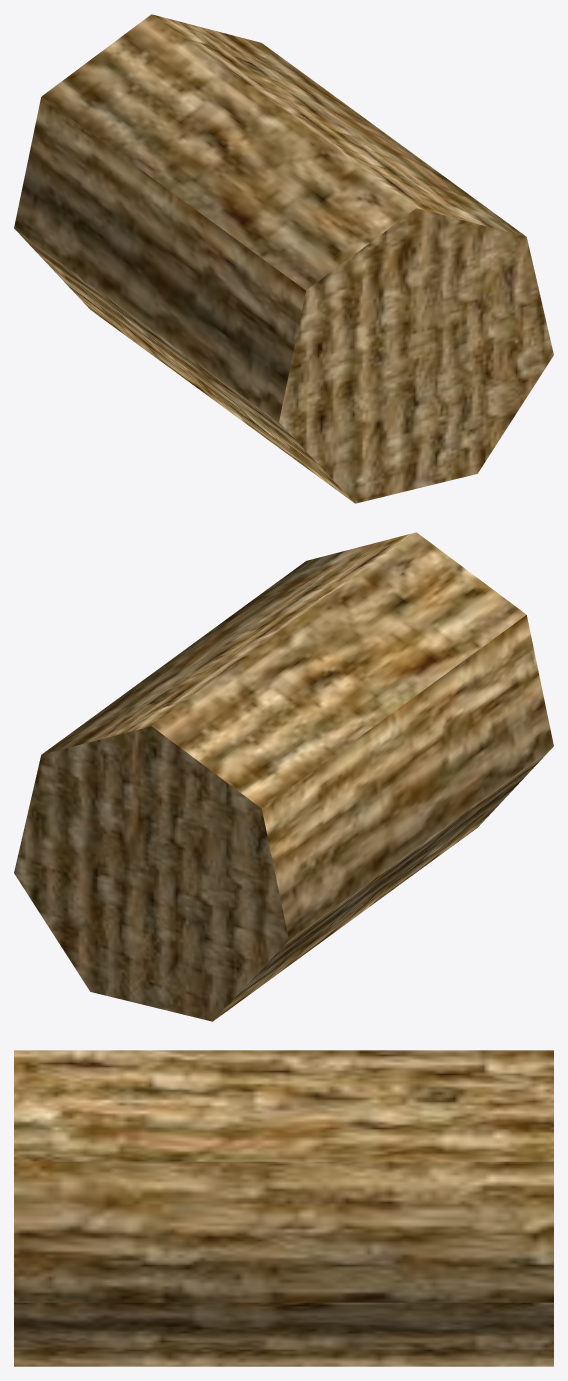
The model's file is rope.fbx.
3 renders of one model, top to bottom at view 1: azimuth 30°, elevation 25°; view 2: azimuth 150°, elevation 25°; view 3: azimuth 270°, elevation 25°, orthographic.
Visible parts, largest first — view 1: rope; view 2: rope; view 3: rope.
Boxes of the visible parts, bbox=[...] form: rope: bbox=[14, 14, 553, 503]; rope: bbox=[14, 532, 553, 1021]; rope: bbox=[14, 1050, 553, 1366].
Size of the model in its own units: 0.6485 by 0.6322 by 1.08.
Materials: 1 (1 with a texture image).
